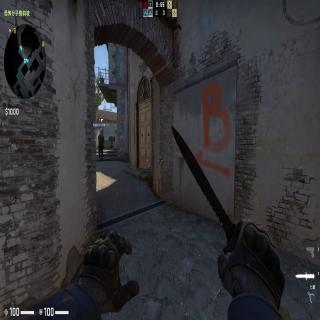CT-Body: (98, 131, 104, 161)
